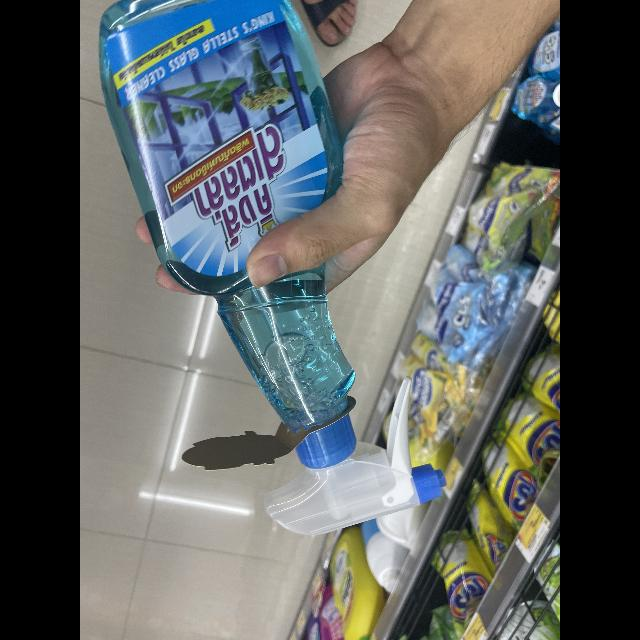chemical_plastic_bottle: (98, 1, 448, 540)
